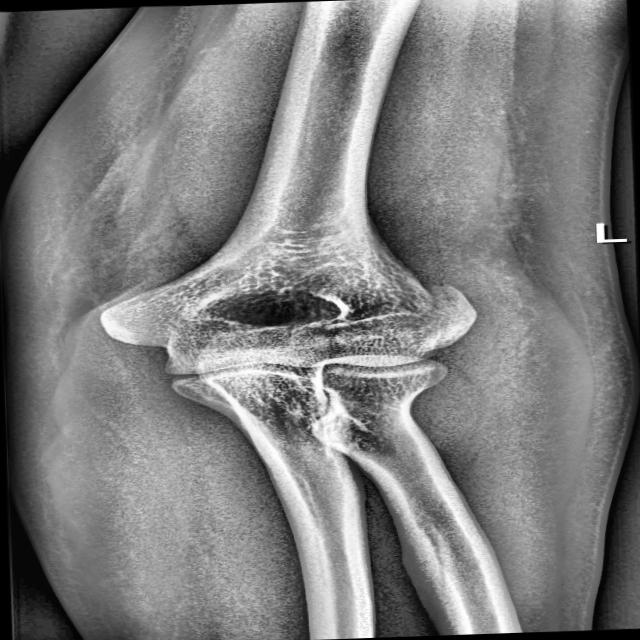elbow positive: (376, 273, 502, 326)
